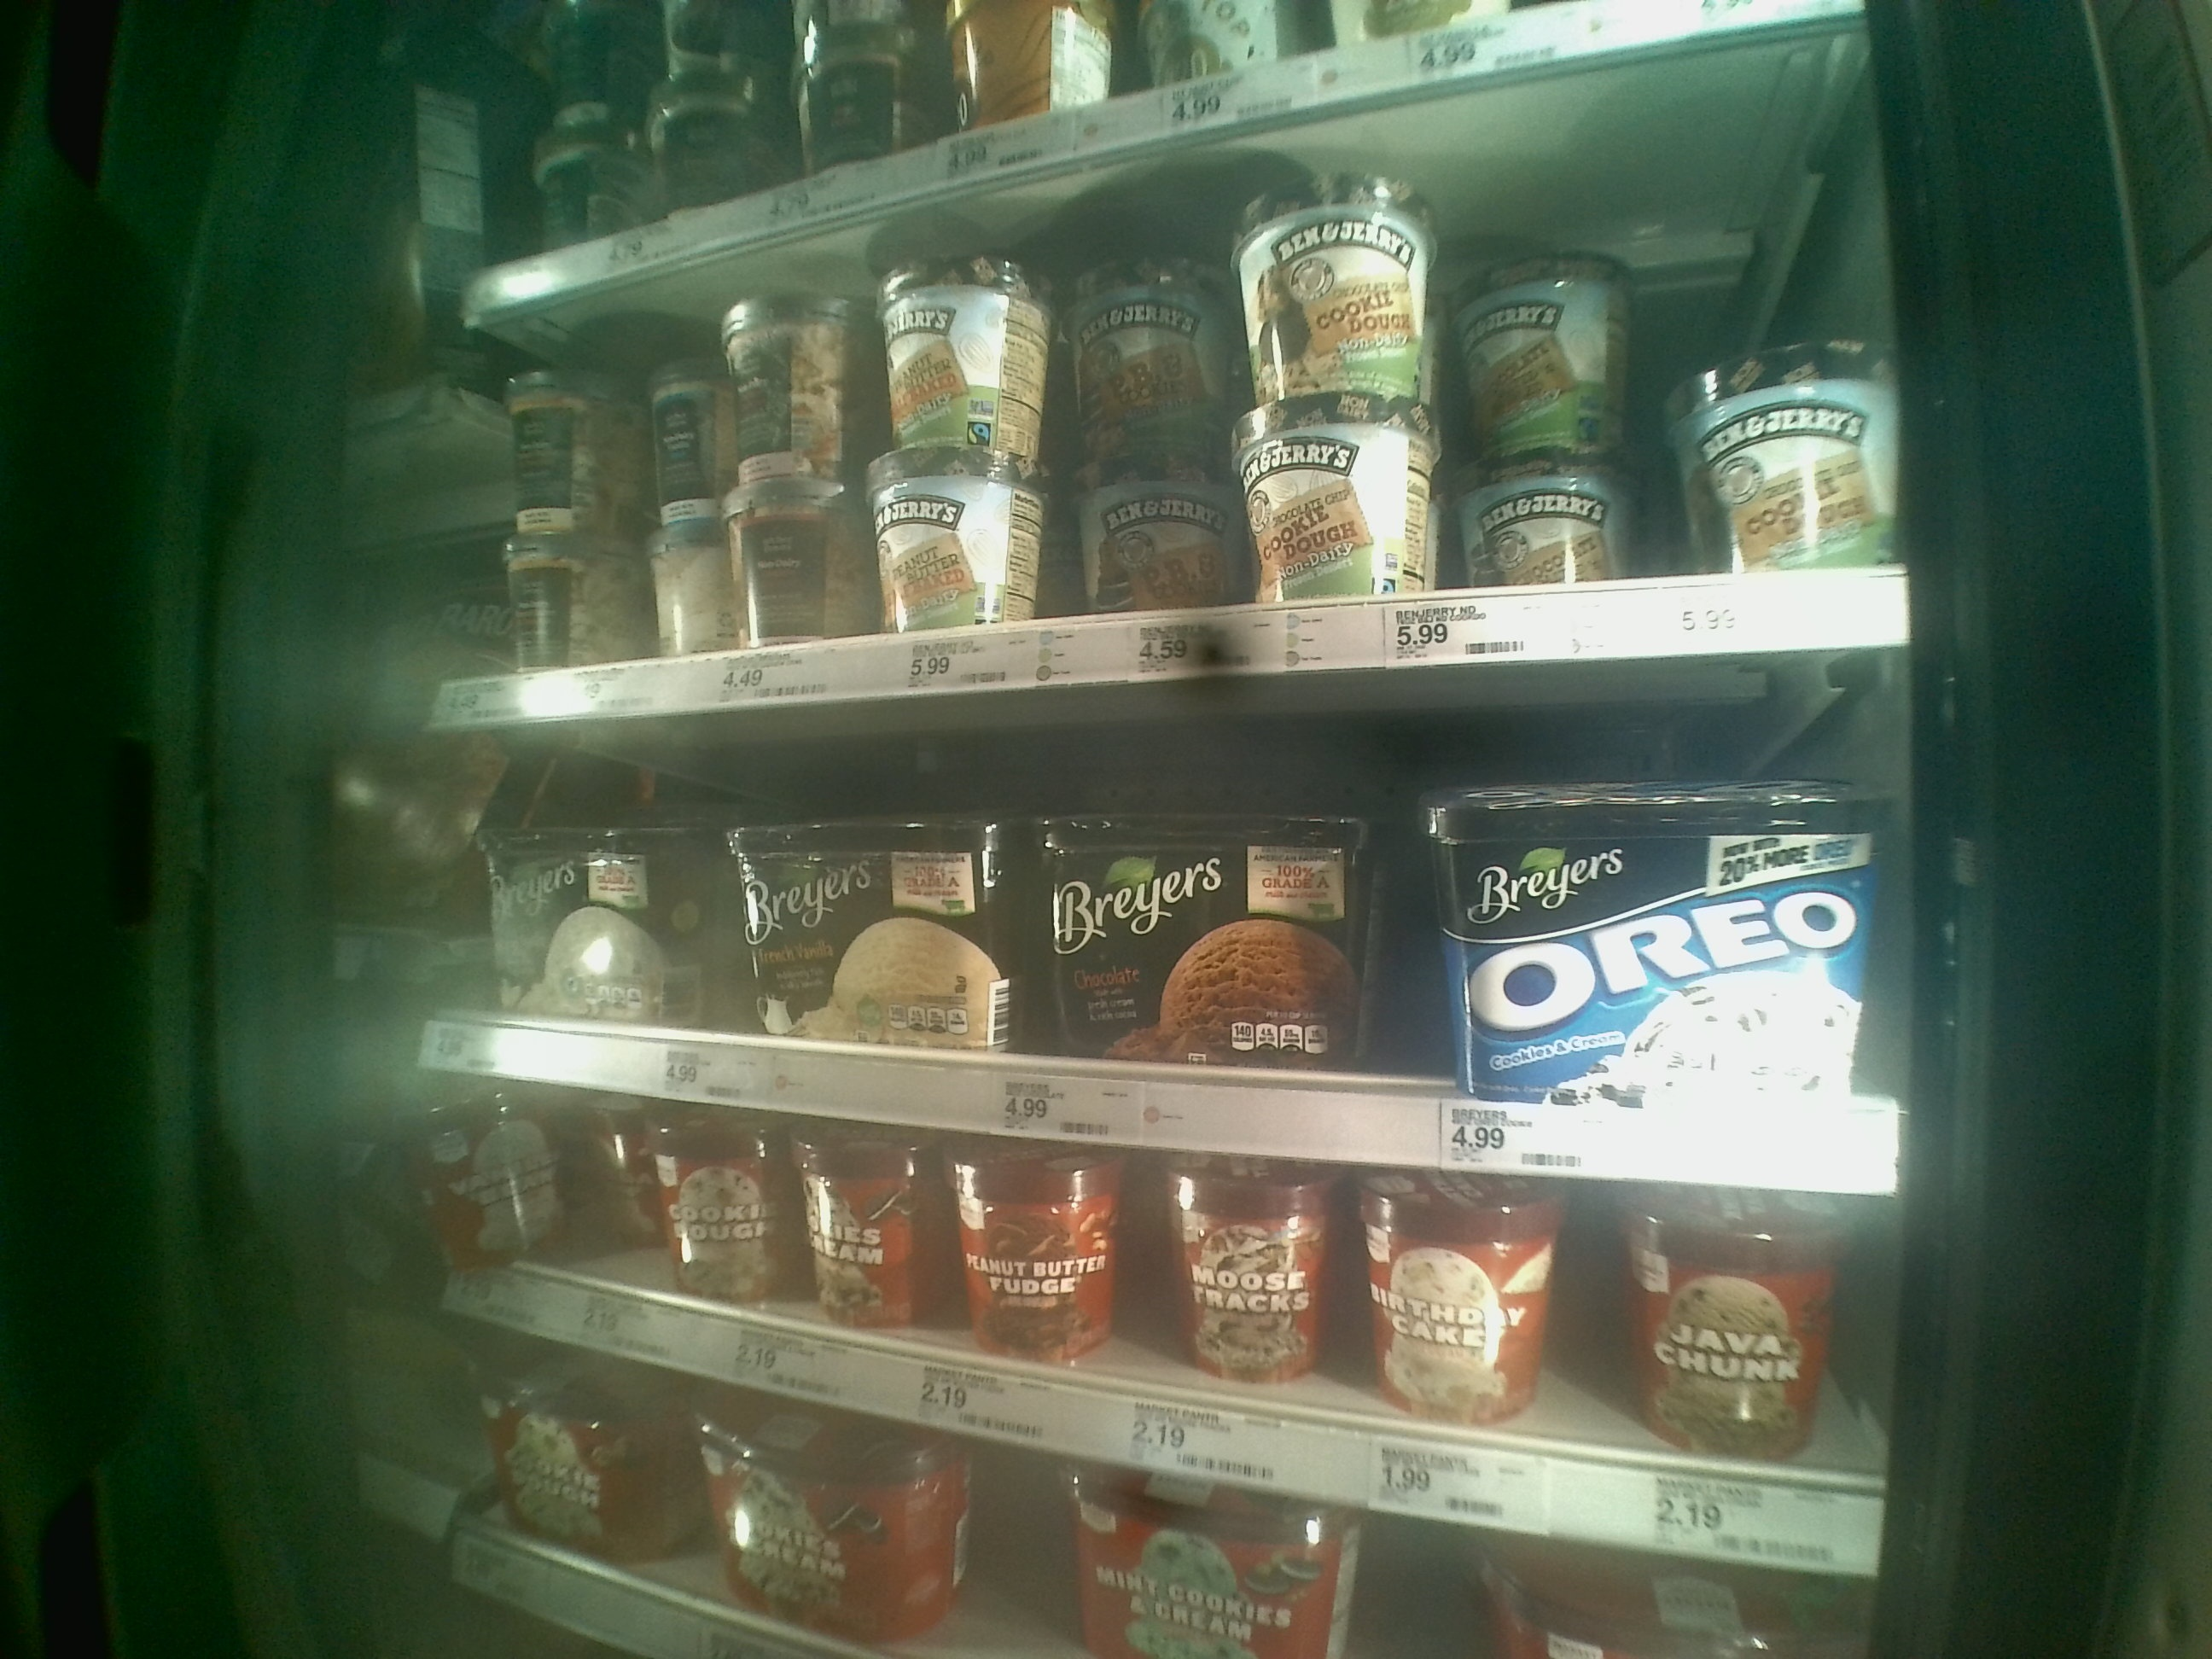shelf: (432, 648, 1914, 1190), (421, 1086, 1902, 1582)
